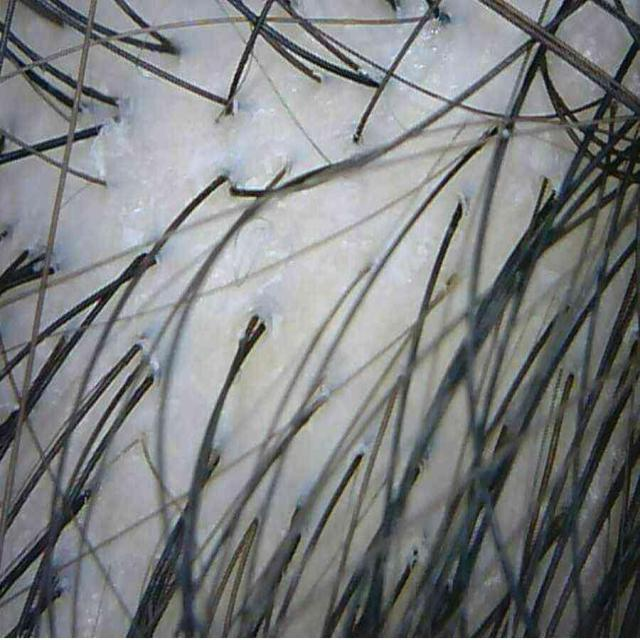ds: (89, 114, 132, 188)
o: (398, 19, 446, 80)
